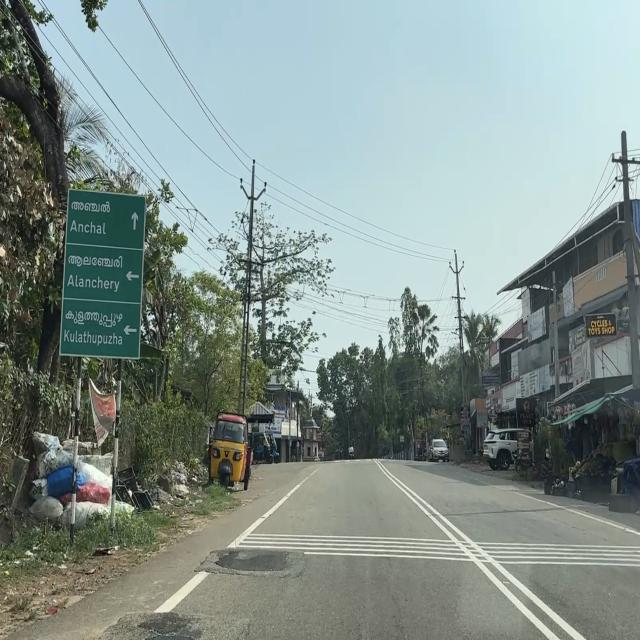GENERAL: (58, 187, 148, 364)
